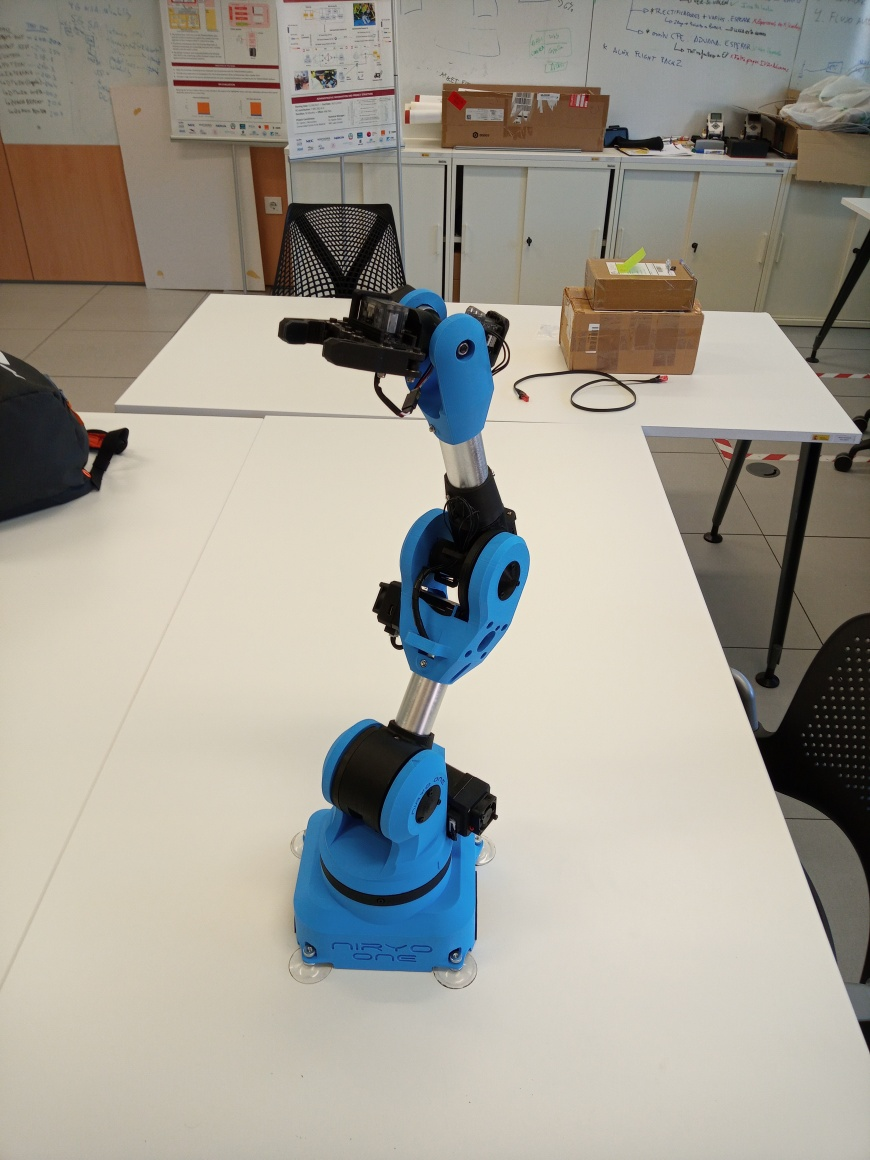robot: (271, 283, 548, 993)
